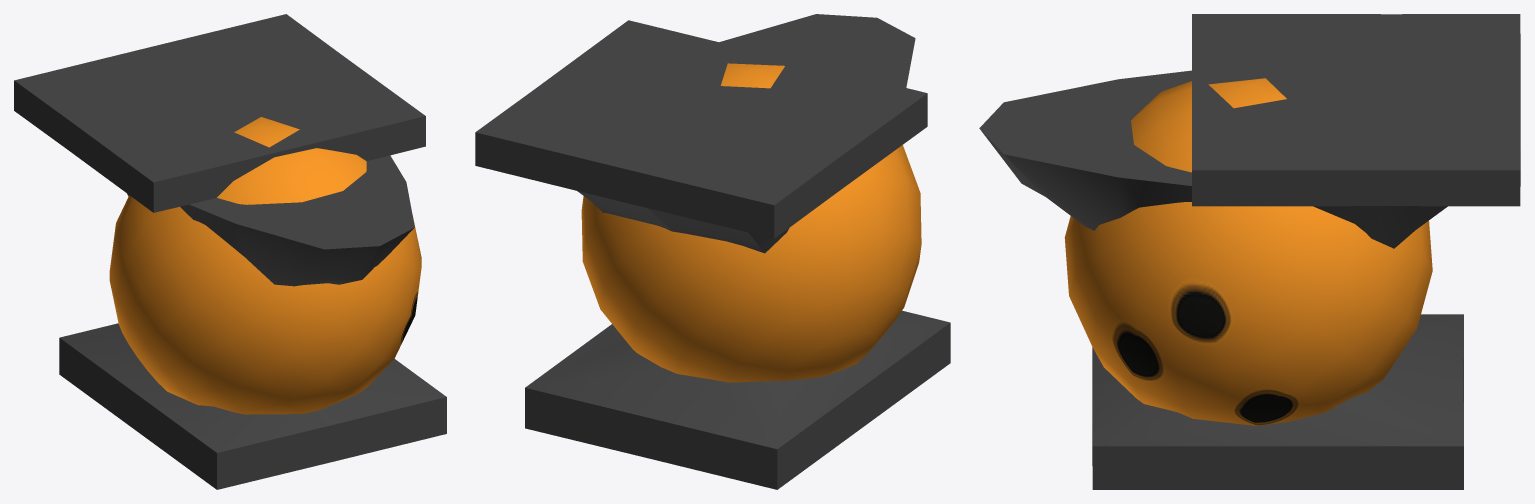
File: dusen-esya.fbx
The picture shows the model from 3 angles, left to right: view 1: azimuth 30°, elevation 25°; view 2: azimuth 150°, elevation 25°; view 3: azimuth 270°, elevation 25°; orthographic projection. The views are drawn at different scales.
Visible parts, largest first — view 1: demir, bowlingball; view 2: demir, bowlingball; view 3: demir, bowlingball.
Part boxes in pixels (x1,y1,x2,y2): demir: [14, 14, 446, 489]; bowlingball: [109, 117, 421, 414]; demir: [475, 14, 950, 489]; bowlingball: [581, 63, 921, 382]; demir: [979, 14, 1520, 489]; bowlingball: [1064, 78, 1432, 425].
Bounding box in the file's own units: 2.17 × 2.18 × 3.17.
